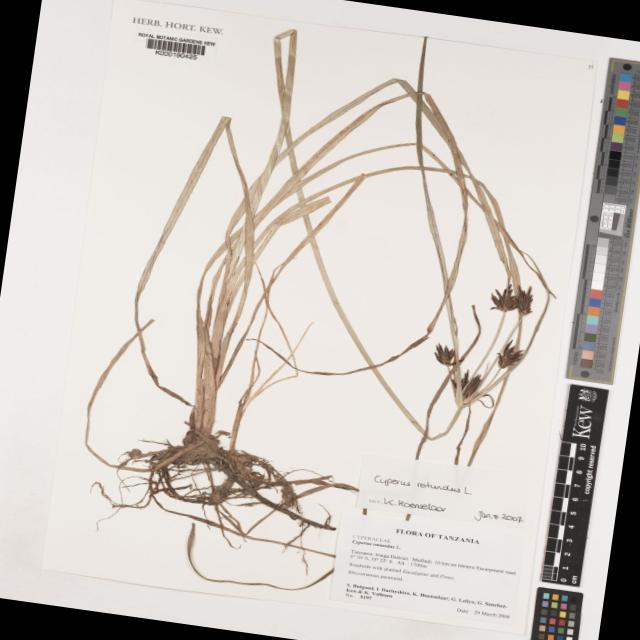cyperus: (398, 258, 566, 436)
